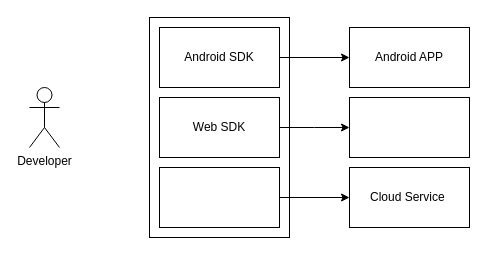
The diagram is 487 pixels wide and 255 high, and some of its shapes have lost their labels. Each missing label, with the box of its shape:
Java SDK (Server): (158, 166, 280, 228)
Web APP: (348, 96, 470, 158)
